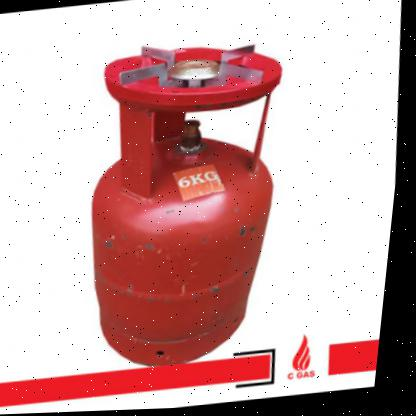gas-tank: (45, 18, 315, 389)
